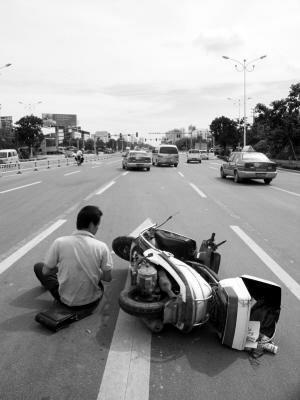Fall-Detected: (28, 199, 114, 321)
